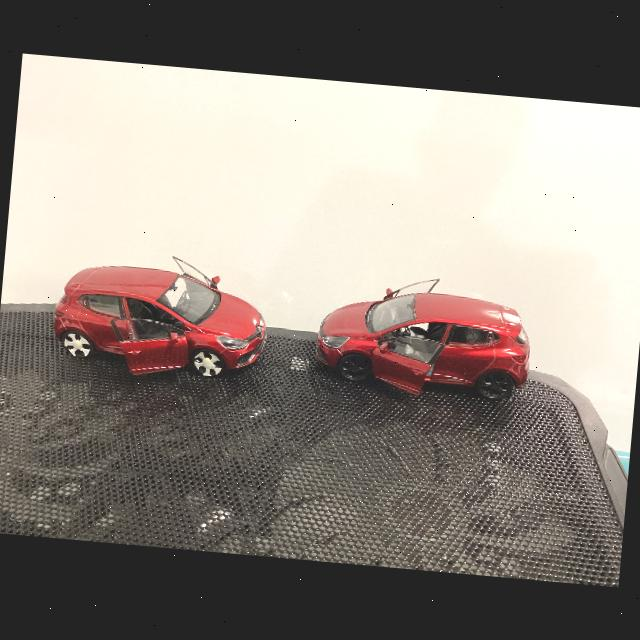Dogru_Jant: (478, 375, 509, 398), (340, 356, 368, 378)
Yanlis_Jant: (192, 351, 223, 378), (62, 332, 90, 358)
